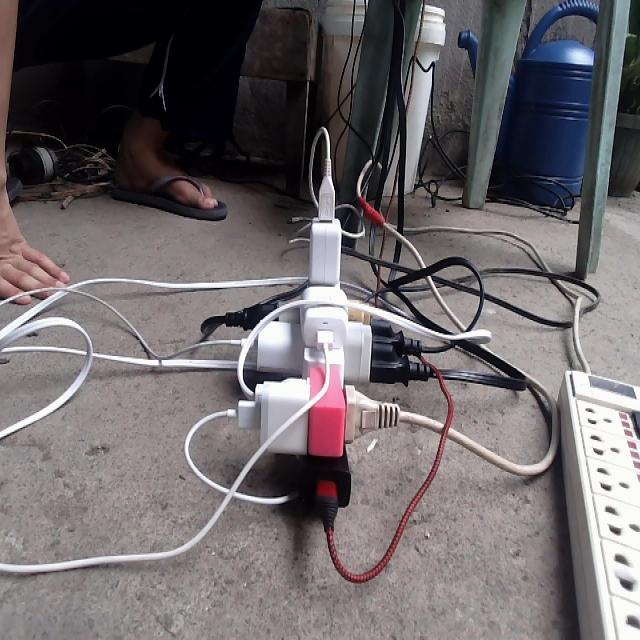-: (222, 125, 440, 531)
